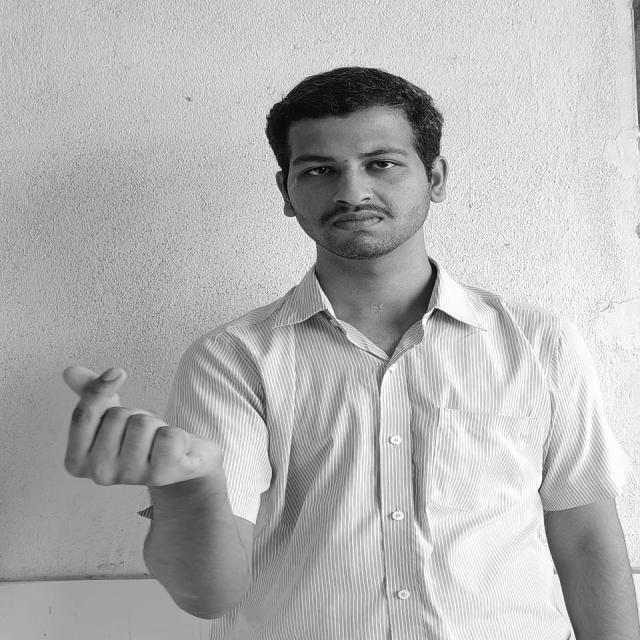Grattitude: (57, 364, 222, 490)
